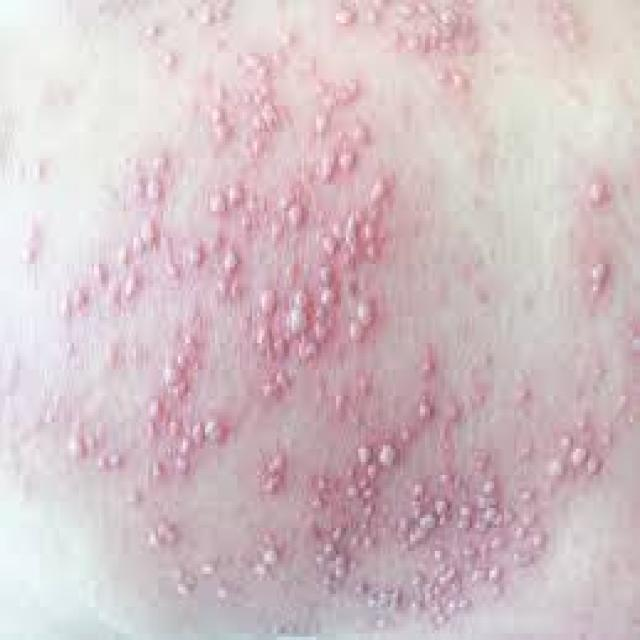Shingles: (10, 1, 613, 620)
